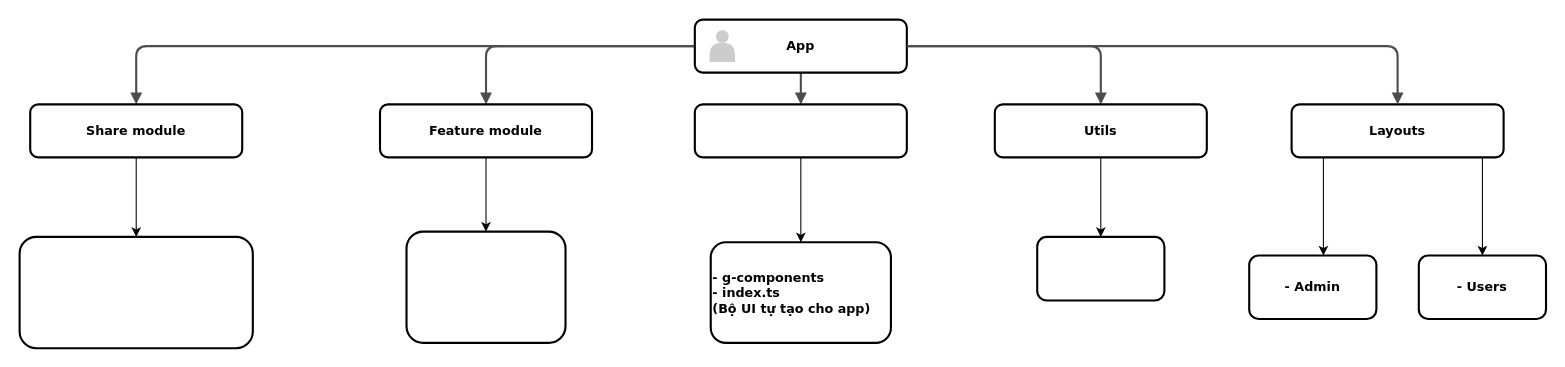
This 1565x367 diagram has some shape labels left out. Each missing label, with the centre of its shape:
"* Quiz module - quiz-module.ts - services - model - components - index.ts" goes at (485,286).
"- Components - Directives - Pipes - Models - ... - index.ts" goes at (135,292).
"- Logic-handler - ..." goes at (1100,268).
"Gluon-control" goes at (800,130).
